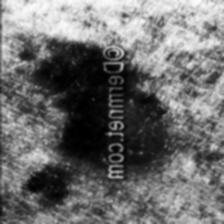Potentially Malignant Skin Tumors: (41, 37, 105, 175), (24, 170, 74, 204)
